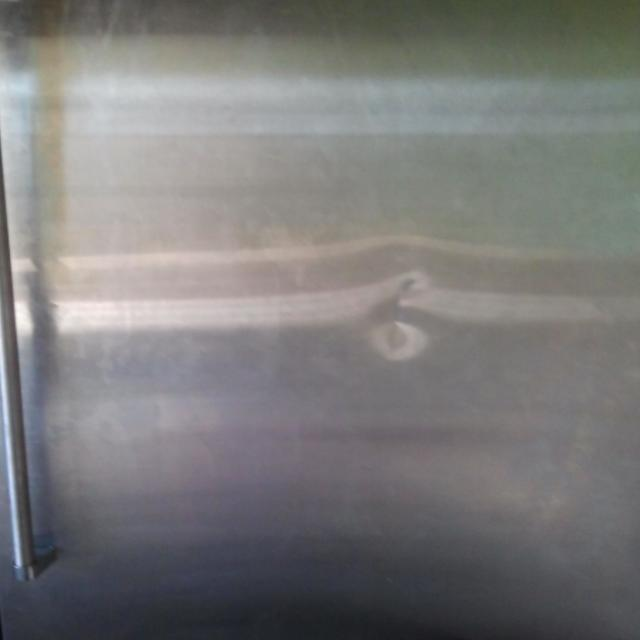dents: (337, 234, 457, 408)
